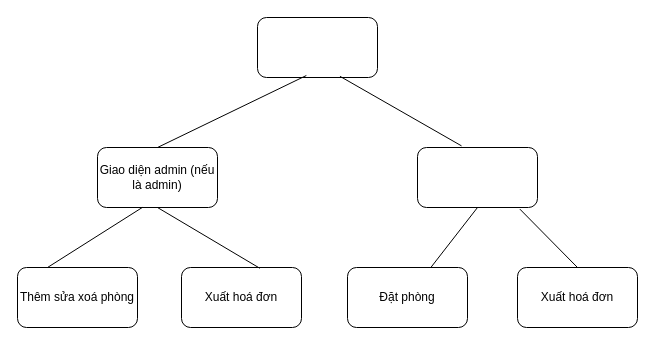
The diagram is 655 pixels wide and 345 high, and some of its shapes have lost their labels. Here are the shapes that lost their labels. From the top down, the centre of each, then its label:
At point 317,47: "Đăng nhập".
At point 477,177: "Giao diện đặt phòng (nếu là user)".
